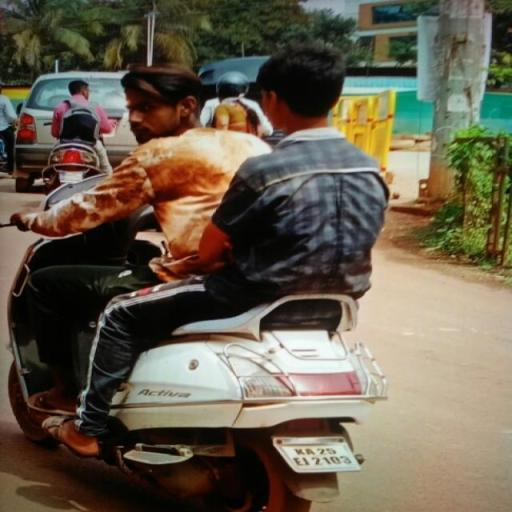bike: (8, 41, 389, 512)
numberplate: (274, 426, 366, 476)
withouthelmet: (119, 56, 204, 139), (261, 52, 340, 125)
